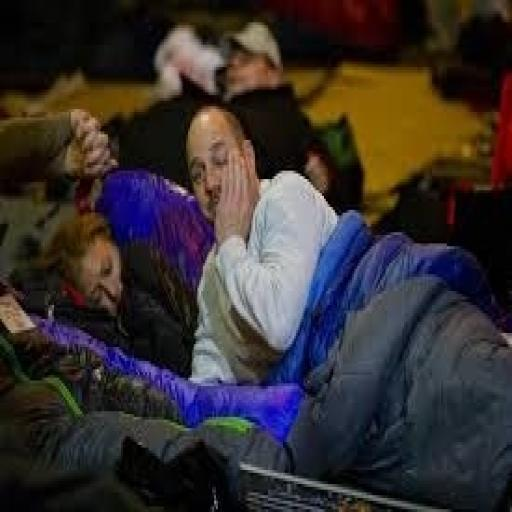sleeping: (183, 101, 510, 509)
